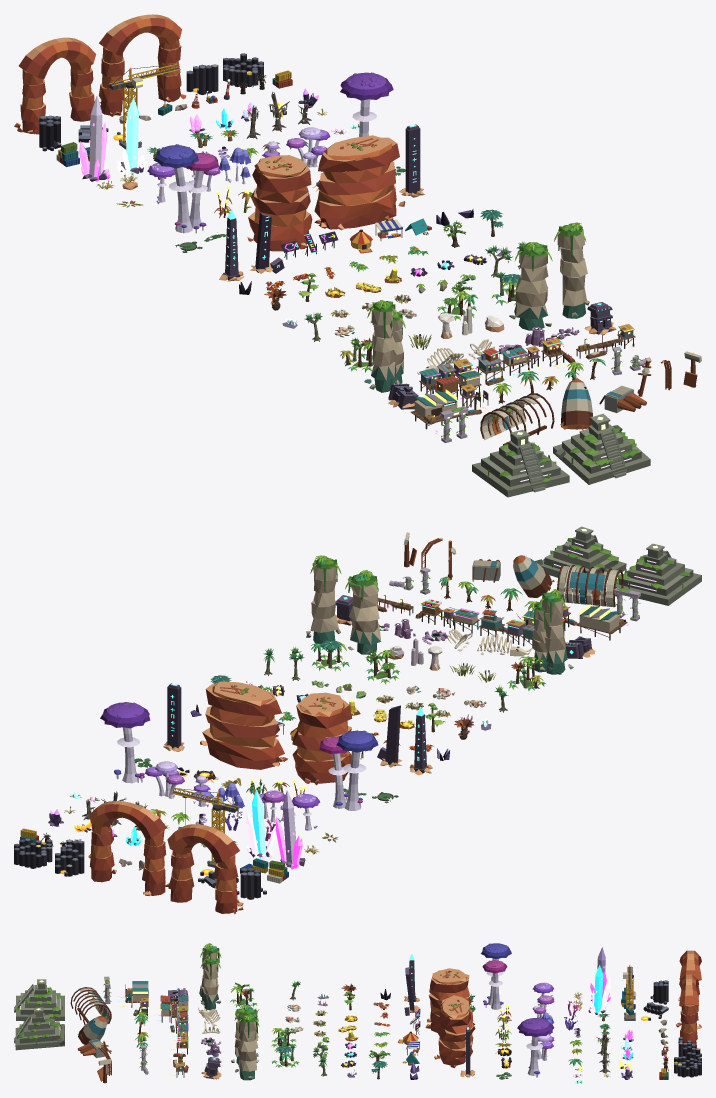
File: props_a.glb
3 renders of one model, top to bottom at view 1: azimuth 30°, elevation 25°; view 2: azimuth 150°, elevation 25°; view 3: azimuth 270°, elevation 25°, orthographic. The views are drawn at different scales.
Parts seen in each view (by area): view 1: mesa_1.001, mesa_0.001, arch_1.001, arch_0.001, ziggurat_1.001, ziggurat_0.001, sea_stack_2.001, glowcap_tall_1.001, sea_stack_0.001, sea_stack_1.001, wreck_hull_0.001, glowcap_tall_0.001 (+14 smaller); view 2: mesa_1.001, arch_1.001, arch_0.001, mesa_0.001, ziggurat_0.001, sea_stack_2.001, glowcap_tall_1.001, ziggurat_1.001, sea_stack_0.001, wreck_hull_0.001, sea_stack_1.001, glowcap_tall_0.001 (+17 smaller); view 3: mesa_1.001, ziggurat_1.001, mesa_0.001, ziggurat_0.001, arch_1.001, sea_stack_1.001, sea_stack_2.001, glowcap_tall_1.001, glowcap_tall_0.001, wreck_hull_0.001, crystal_spire_1.001, stilt_house_0.001 (+18 smaller).
Part boxes in pixels (bbox=[...]): mesa_1.001: bbox=[314, 135, 405, 230]; mesa_0.001: bbox=[247, 155, 312, 251]; arch_1.001: bbox=[99, 14, 186, 116]; arch_0.001: bbox=[14, 37, 96, 134]; ziggurat_1.001: bbox=[553, 413, 650, 484]; ziggurat_0.001: bbox=[472, 429, 569, 497]; sea_stack_2.001: bbox=[364, 300, 405, 392]; glowcap_tall_1.001: bbox=[154, 144, 218, 233]; sea_stack_0.001: bbox=[509, 242, 552, 330]; sea_stack_1.001: bbox=[554, 222, 589, 318]; wreck_hull_0.001: bbox=[480, 393, 554, 445]; glowcap_tall_0.001: bbox=[340, 72, 393, 136]; mesa_1.001: bbox=[200, 681, 287, 769]; arch_1.001: bbox=[89, 801, 169, 895]; arch_0.001: bbox=[167, 824, 243, 914]; mesa_0.001: bbox=[292, 692, 352, 785]; ziggurat_0.001: bbox=[615, 543, 701, 605]; sea_stack_2.001: bbox=[530, 589, 573, 674]; glowcap_tall_1.001: bbox=[319, 730, 378, 810]; ziggurat_1.001: bbox=[535, 526, 626, 579]; sea_stack_0.001: bbox=[345, 570, 381, 654]; wreck_hull_0.001: bbox=[557, 564, 623, 607]; sea_stack_1.001: bbox=[306, 555, 341, 643]; glowcap_tall_0.001: bbox=[100, 702, 150, 783]; mesa_1.001: bbox=[434, 995, 475, 1067]; ziggurat_1.001: bbox=[14, 1007, 64, 1050]; mesa_0.001: bbox=[425, 968, 474, 1032]; ziggurat_0.001: bbox=[14, 979, 64, 1020]; arch_1.001: bbox=[676, 974, 701, 1048]; sea_stack_1.001: bbox=[235, 1014, 259, 1080]; sea_stack_2.001: bbox=[199, 943, 221, 1010]; glowcap_tall_1.001: bbox=[481, 943, 511, 1009]; glowcap_tall_0.001: bbox=[517, 1017, 553, 1077]; wreck_hull_0.001: bbox=[70, 987, 111, 1024]; crystal_spire_1.001: bbox=[588, 965, 610, 1015]; stilt_house_0.001: bbox=[154, 993, 188, 1023].
Size of the model in its own units: 59.68 by 21.57 by 196.
